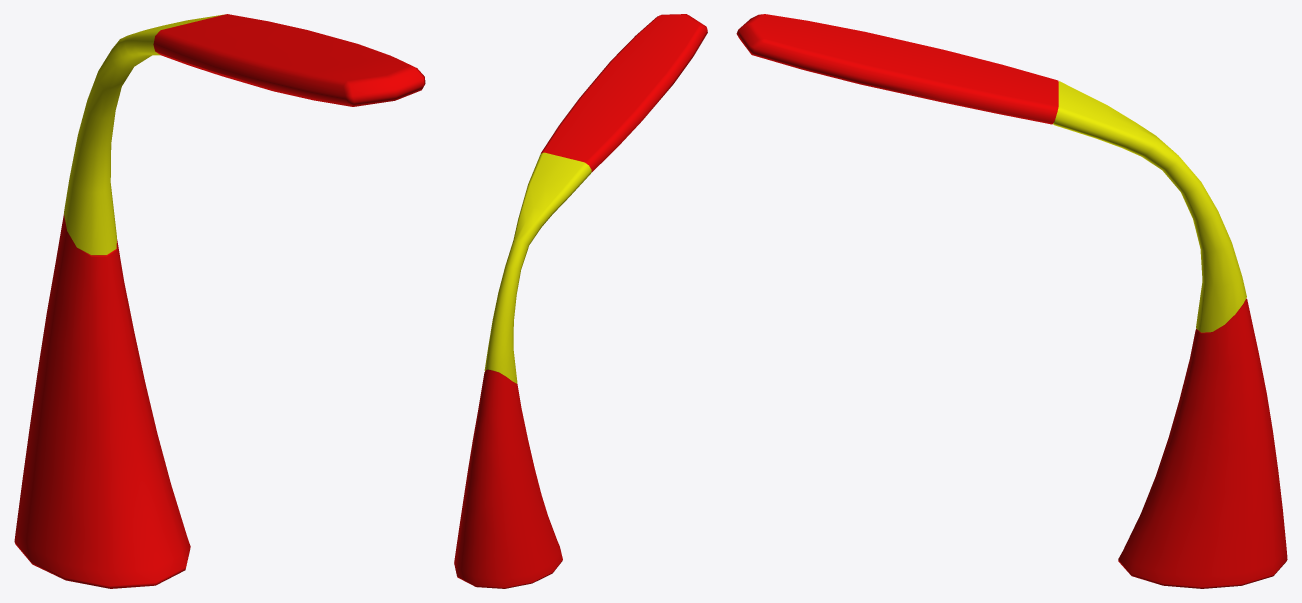
Rendered from thorkea_desk_lamps_grp.fbx.
3 renders of one model, left to right at view 1: azimuth 30°, elevation 25°; view 2: azimuth 150°, elevation 25°; view 3: azimuth 270°, elevation 25°, orthographic. The views are drawn at different scales.
Parts seen in each view (by area): view 1: thorkea_desk_lamp_ai2; view 2: thorkea_desk_lamp_ai2; view 3: thorkea_desk_lamp_ai2.
Part boxes in pixels (x1,y1,x2,y2): thorkea_desk_lamp_ai2: [14, 14, 425, 588]; thorkea_desk_lamp_ai2: [454, 14, 707, 588]; thorkea_desk_lamp_ai2: [736, 14, 1287, 588].
Size of the model in its own units: 9.92 by 45.09 by 41.77.
